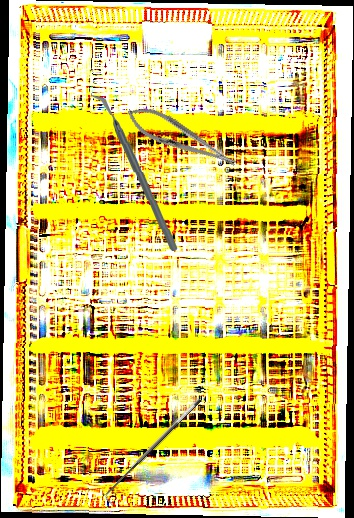Chopper: (90, 90, 179, 254)
Hook Surgical: (99, 396, 210, 506)
Needle Holder: (121, 98, 242, 178)
